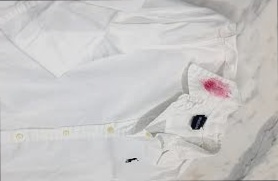lipstick: (201, 71, 232, 101)
